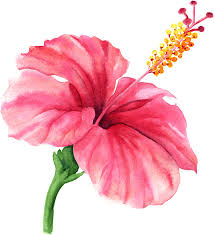hybiscus: (2, 1, 214, 210)
